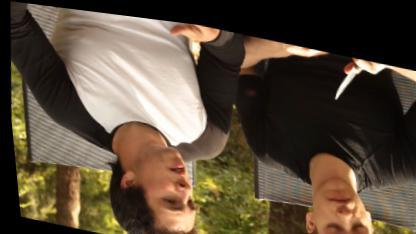knife: (323, 43, 380, 106)
